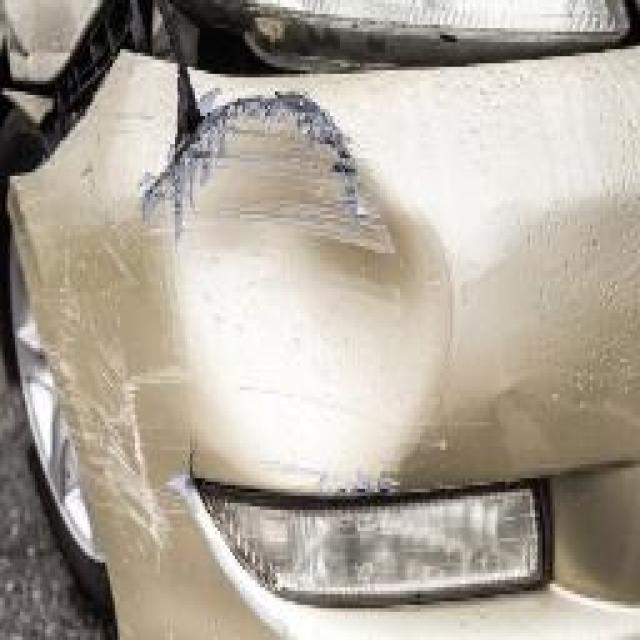Bumper: (20, 74, 535, 506)
